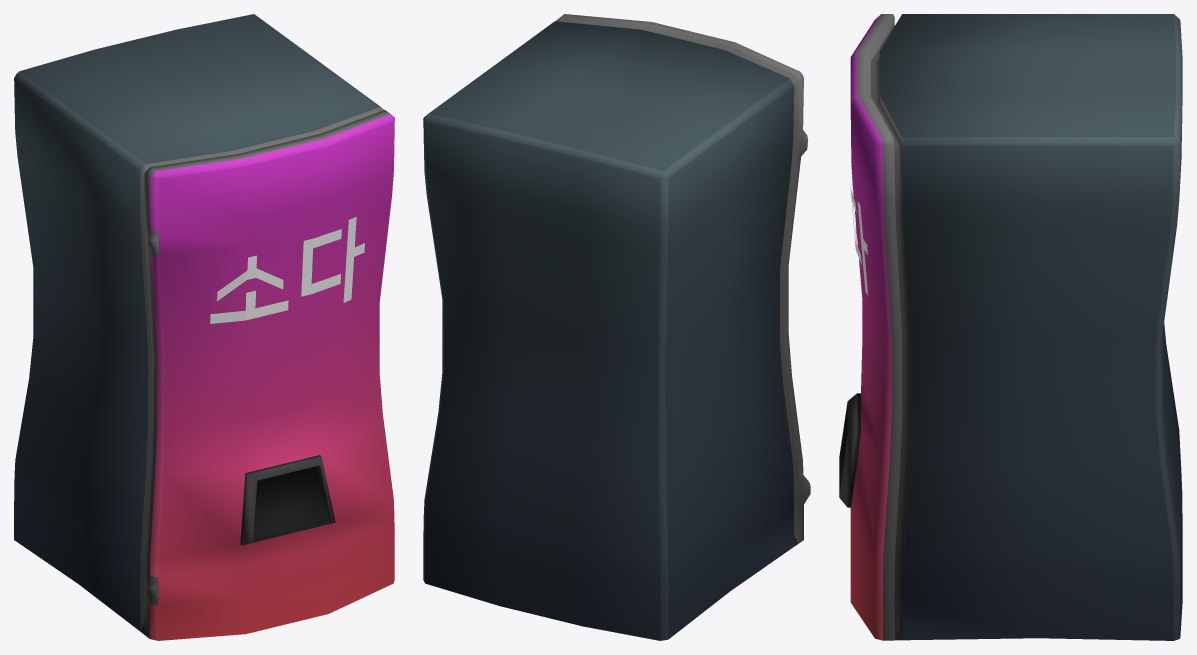
Rendered from vending machine.fbx.
3 views of the same model, side by side, from view 1: azimuth 30°, elevation 25°; view 2: azimuth 150°, elevation 25°; view 3: azimuth 270°, elevation 25° (orthographic). The views are drawn at different scales.
Parts seen in each view (by area): view 1: vending machine; view 2: vending machine; view 3: vending machine.
Part boxes in pixels (x1,y1,x2,y2): vending machine: [14, 14, 394, 640]; vending machine: [423, 14, 810, 640]; vending machine: [839, 14, 1182, 640].
Bounding box in the file's own units: 182 × 330 × 202.
